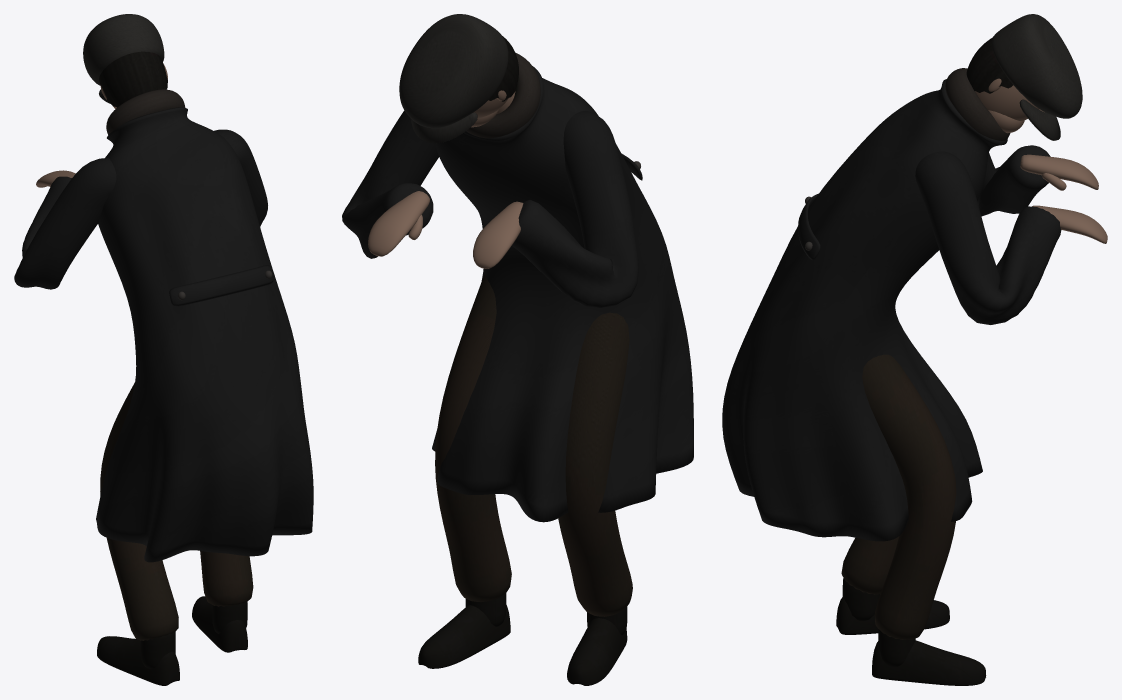
File: worker-stooped-to-brazier.glb
3 views of the same model, side by side, from view 1: azimuth 30°, elevation 25°; view 2: azimuth 150°, elevation 25°; view 3: azimuth 270°, elevation 25° (orthographic). The views are drawn at different scales.
Parts seen in each view (by area): view 1: worker-stooped-to-brazier-body; view 2: worker-stooped-to-brazier-body; view 3: worker-stooped-to-brazier-body.
Part boxes in pixels (x1=…): worker-stooped-to-brazier-body: x1=14, y1=14, x2=313, y2=685; worker-stooped-to-brazier-body: x1=342, y1=14, x2=693, y2=685; worker-stooped-to-brazier-body: x1=722, y1=14, x2=1107, y2=685.
Bounding box in the file's own units: 0.663 × 1.51 × 0.8326.
Materials: 8 (6 with a texture image).
